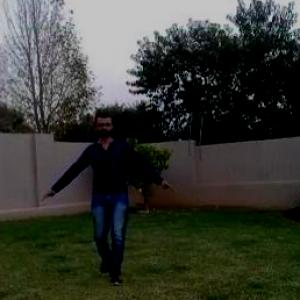land: (27, 98, 181, 299)
